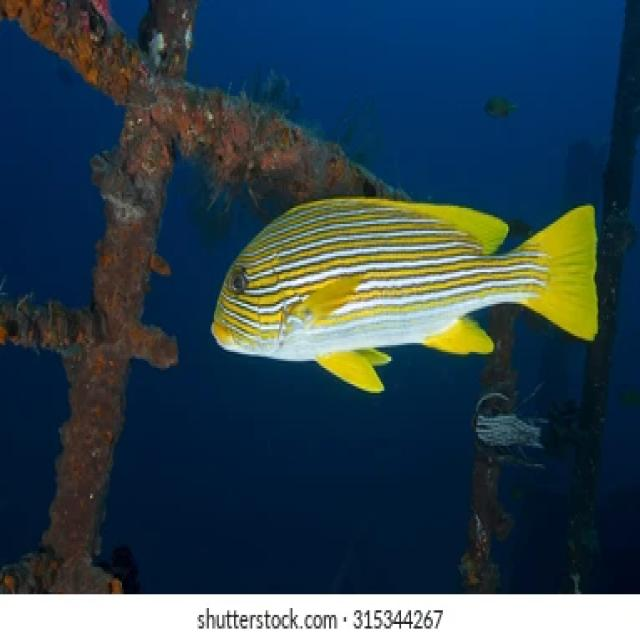RibbonedSweetlips: (209, 192, 600, 395)
